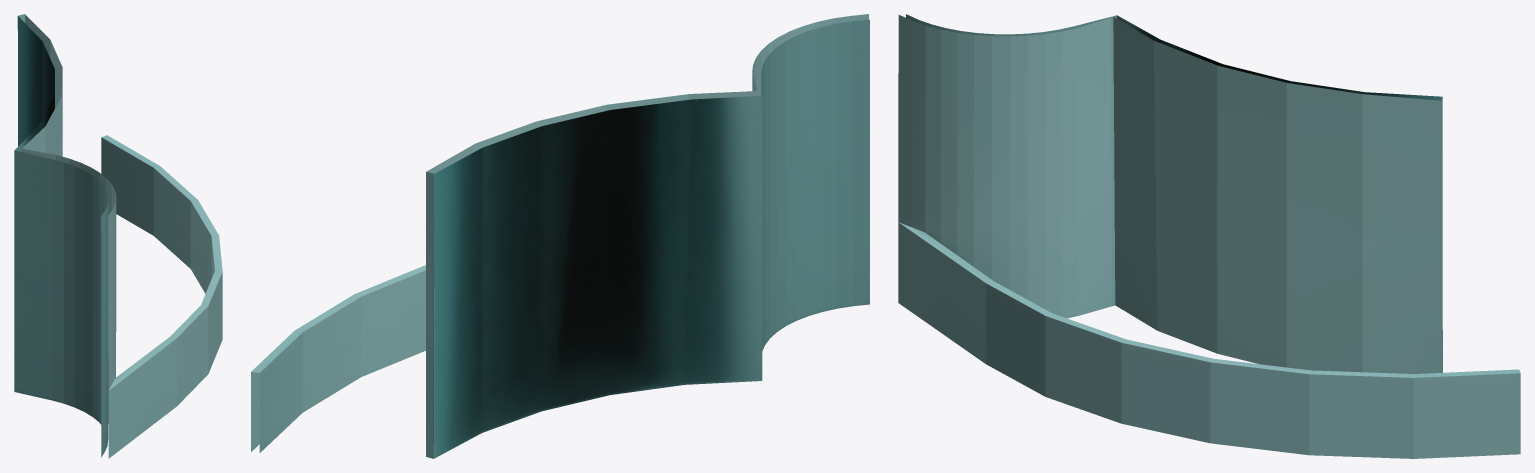
The model's file is structure_07.glb.
The picture shows the model from 3 angles, left to right: view 1: azimuth 30°, elevation 25°; view 2: azimuth 150°, elevation 25°; view 3: azimuth 270°, elevation 25°; orthographic projection. The views are drawn at different scales.
Parts seen in each view (by area): view 1: Structure.006; view 2: Structure.006; view 3: Structure.006.
Boxes of the visible parts, x1,y1,x2,y2 form: Structure.006: (14, 14, 222, 458); Structure.006: (251, 14, 869, 458); Structure.006: (898, 14, 1520, 458).
Bounding box in the file's own units: 4.08 × 3.47 × 6.78.
Materials: 1 (1 with a texture image).
